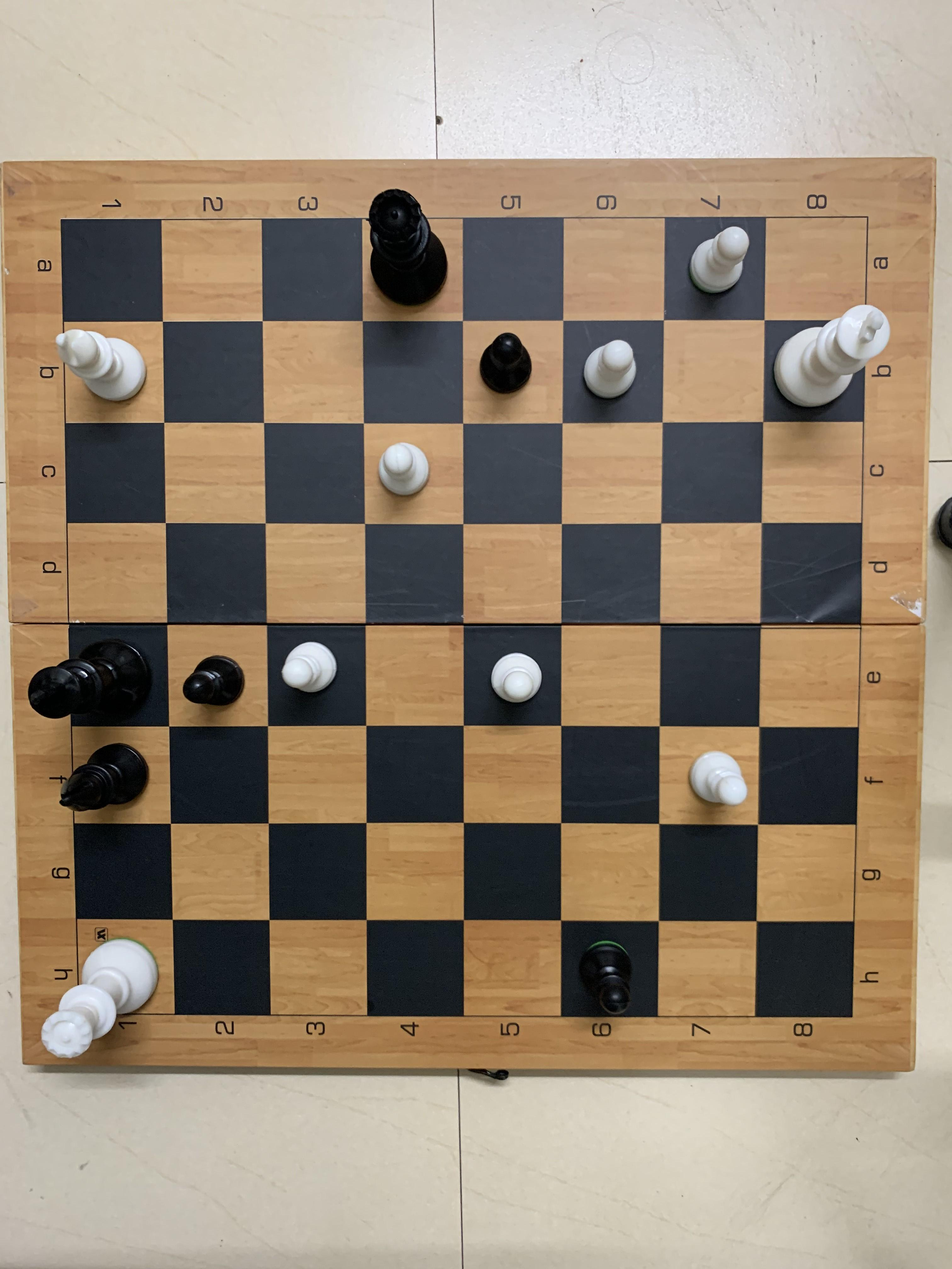black_bishop: (47, 741, 156, 818)
black_king: (14, 632, 170, 736)
black_pawn: (559, 927, 647, 1029), (480, 325, 537, 410), (178, 650, 254, 708)
black_queen: (356, 181, 451, 312)
white_bishop: (36, 318, 163, 410)
white_king: (774, 296, 893, 417)
white_pawn: (678, 740, 758, 814), (683, 221, 757, 298), (273, 635, 351, 703), (479, 641, 548, 713), (577, 335, 646, 406), (372, 438, 436, 506)
white_queen: (37, 928, 162, 1063)
